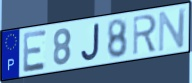8: (106, 18, 129, 59), (52, 27, 73, 67)
E: (22, 28, 48, 75)
J: (80, 22, 101, 62)
N: (157, 7, 187, 54)
R: (132, 13, 158, 57)
